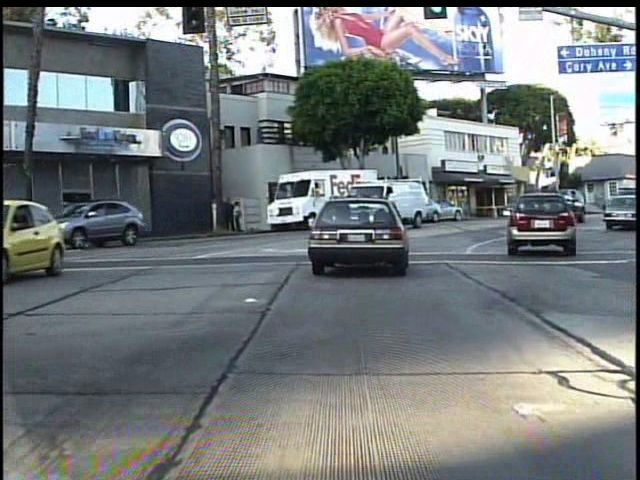person: (222, 194, 236, 234), (232, 200, 246, 235)
